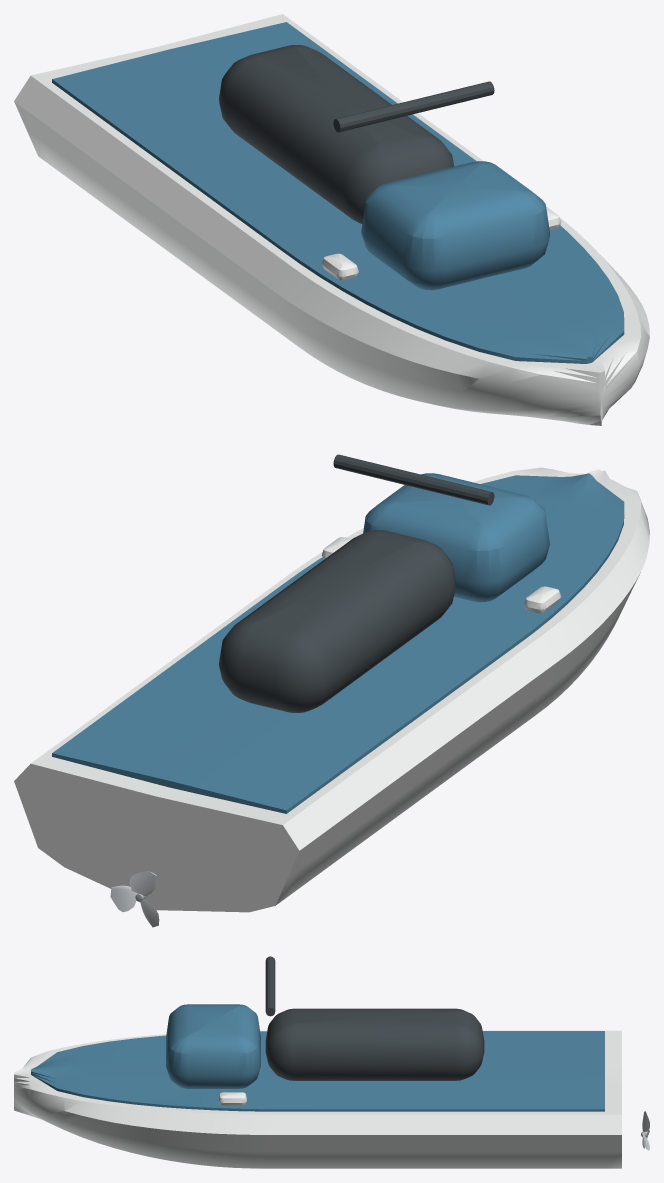
Rendered from 2-powerboat-racing-and-launch-ramp-sit-down-jet-ski-b3443ad6.glb.
The picture shows the model from 3 angles, top to bottom: view 1: azimuth 30°, elevation 25°; view 2: azimuth 150°, elevation 25°; view 3: azimuth 270°, elevation 25°; orthographic projection. The views are drawn at different scales.
Visible parts, largest first — view 1: sit-down-jet-ski, handlebar; view 2: sit-down-jet-ski, handlebar, propeller; view 3: sit-down-jet-ski, handlebar.
Part boxes in pixels (left/top/right/bottom): sit-down-jet-ski: left=14, top=14, right=649, bottom=425; handlebar: left=333, top=81, right=494, bottom=132; sit-down-jet-ski: left=14, top=467, right=649, bottom=912; handlebar: left=333, top=454, right=494, bottom=505; propeller: left=110, top=871, right=159, bottom=927; sit-down-jet-ski: left=14, top=1004, right=621, bottom=1168; handlebar: left=265, top=956, right=275, bottom=1016.
Size of the model in its own units: 1.19 by 0.9942 by 3.35.
